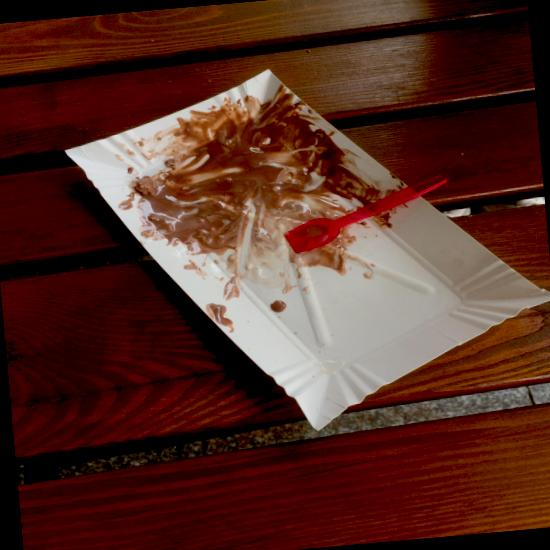Meal carton: (64, 68, 550, 430)
Plastic utensils: (282, 174, 449, 253)
